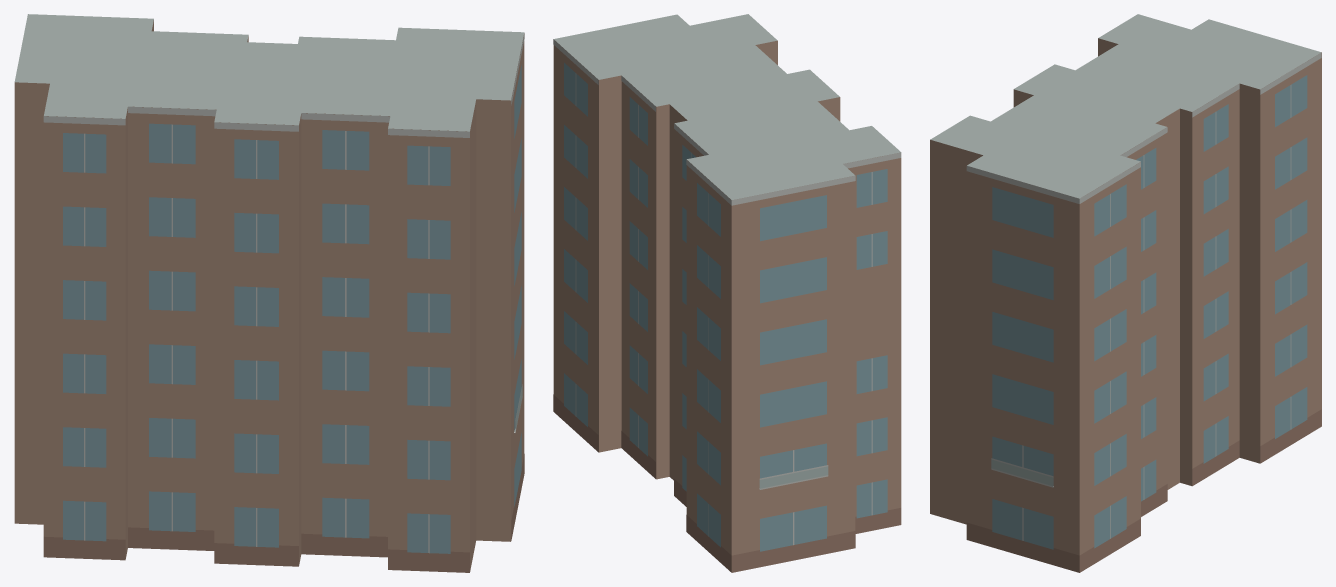
The model's file is survey-upis-32628290.glb.
3 views of the same model, side by side, from view 1: azimuth 30°, elevation 25°; view 2: azimuth 150°, elevation 25°; view 3: azimuth 270°, elevation 25° (orthographic). The views are drawn at different scales.
Visible parts, largest first — view 1: survey-upis-32628290.tmp; view 2: survey-upis-32628290.tmp; view 3: survey-upis-32628290.tmp.
Part boxes in pixels (x1,y1,x2,y2): survey-upis-32628290.tmp: (14, 14, 524, 572); survey-upis-32628290.tmp: (553, 14, 901, 572); survey-upis-32628290.tmp: (930, 14, 1321, 572).
Bounding box in the file's own units: 17.47 × 16.5 × 15.66.
